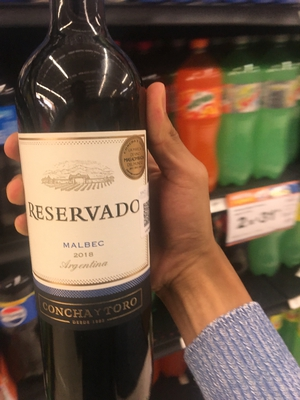reservado malbec: (18, 9, 161, 400)
